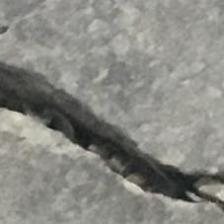Crack: (0, 64, 224, 204)
